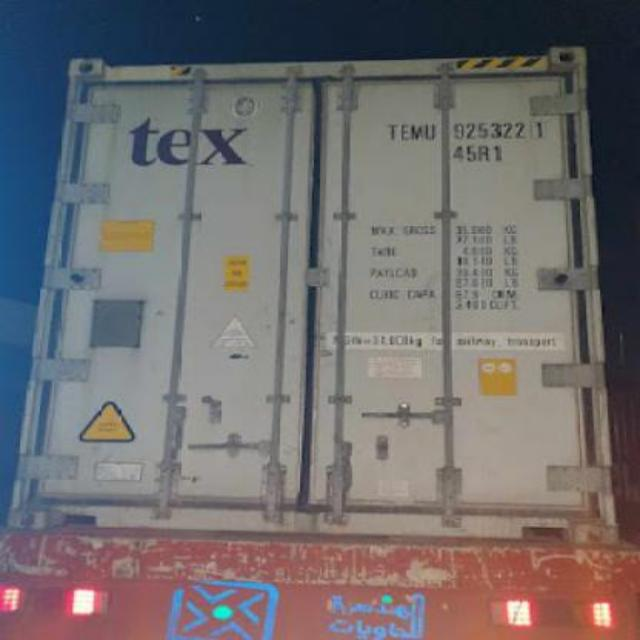1: (530, 117, 550, 143)
2: (512, 114, 526, 144), (464, 116, 476, 144), (500, 116, 512, 142)
3: (488, 117, 502, 143)
5: (474, 115, 488, 141)
9: (451, 117, 464, 143)
E: (398, 116, 408, 148)
M: (408, 118, 424, 146)
T: (382, 118, 400, 146)
U: (422, 116, 436, 148)
